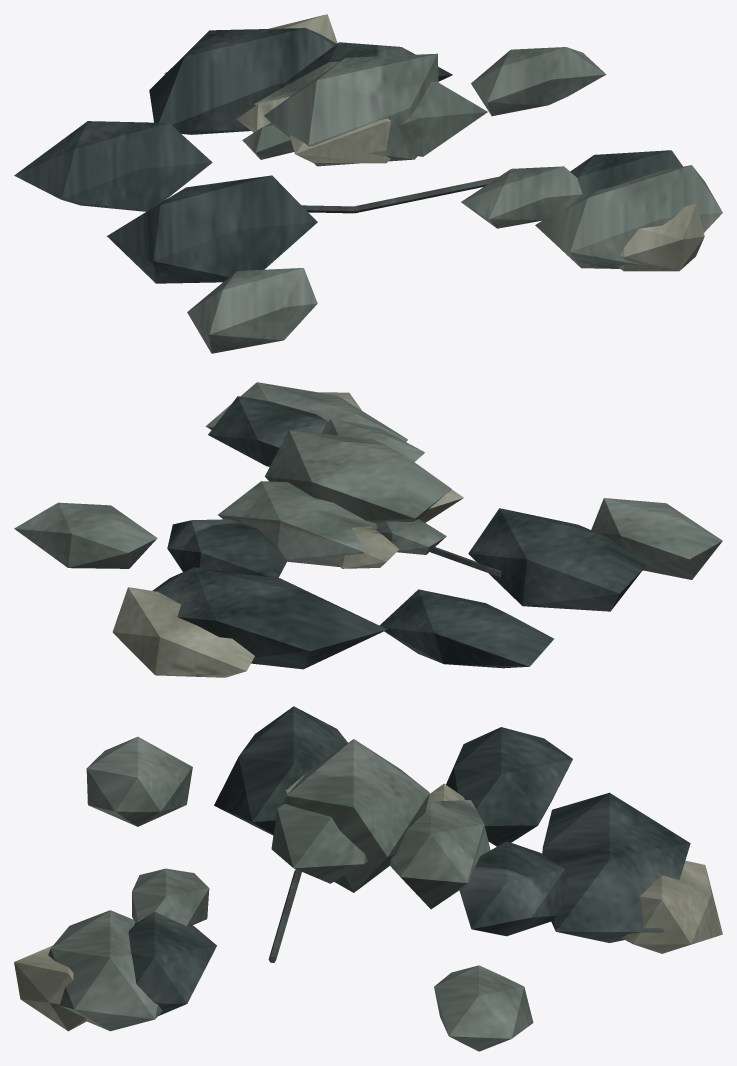
File: 0123_scree_pile_23.glb
The picture shows the model from 3 angles, top to bottom: view 1: azimuth 30°, elevation 25°; view 2: azimuth 150°, elevation 25°; view 3: azimuth 270°, elevation 25°; orthographic projection. The views are drawn at different scales.
Parts seen in each view (by area): view 1: stone, stone_dark, stone_light, iron; view 2: stone_dark, stone, stone_light, iron; view 3: stone, stone_dark, stone_light, iron.
Part boxes in pixels (box(x1,y1,x2,y2)): stone: box(187, 47, 722, 353); stone_dark: box(14, 28, 682, 283); stone_light: box(164, 14, 704, 271); iron: box(302, 176, 498, 213); stone_dark: box(152, 396, 646, 669); stone: box(14, 382, 722, 579); stone_light: box(112, 392, 463, 677); iron: box(430, 547, 501, 576); stone: box(48, 736, 533, 1051); stone_dark: box(128, 706, 690, 1015); stone_light: box(14, 772, 722, 1031); iron: box(268, 869, 301, 962).
Bounding box in the file's own units: 2.76 × 0.7206 × 2.75.
Materials: 4 (4 with a texture image).
